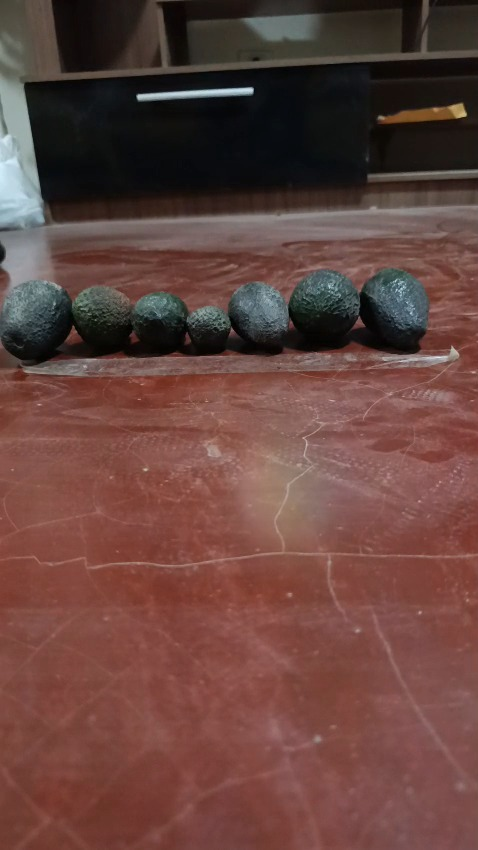Primera: (0, 280, 73, 360), (360, 267, 429, 349), (287, 269, 361, 344)
Segunda: (227, 280, 290, 349), (71, 284, 135, 350), (130, 291, 189, 351)
Tercera: (184, 305, 230, 354)
